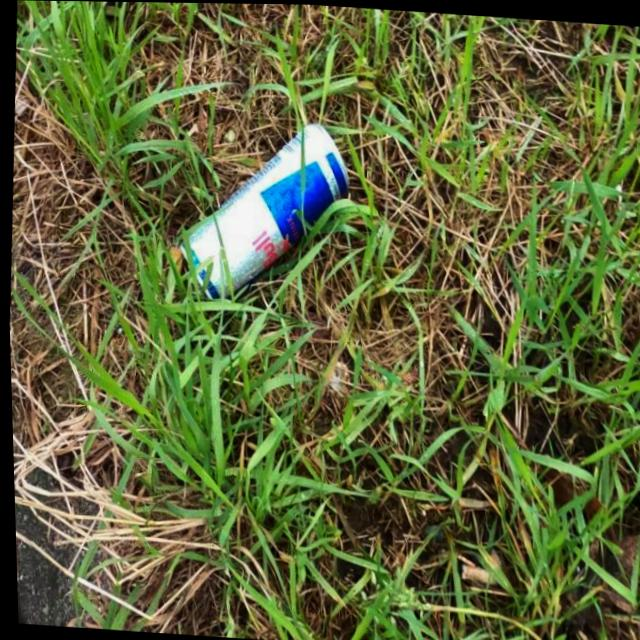Can-Metal: (167, 108, 357, 309)
